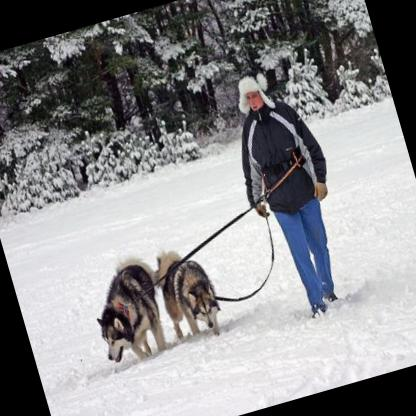malamute: (80, 247, 176, 369), (141, 230, 226, 346)
